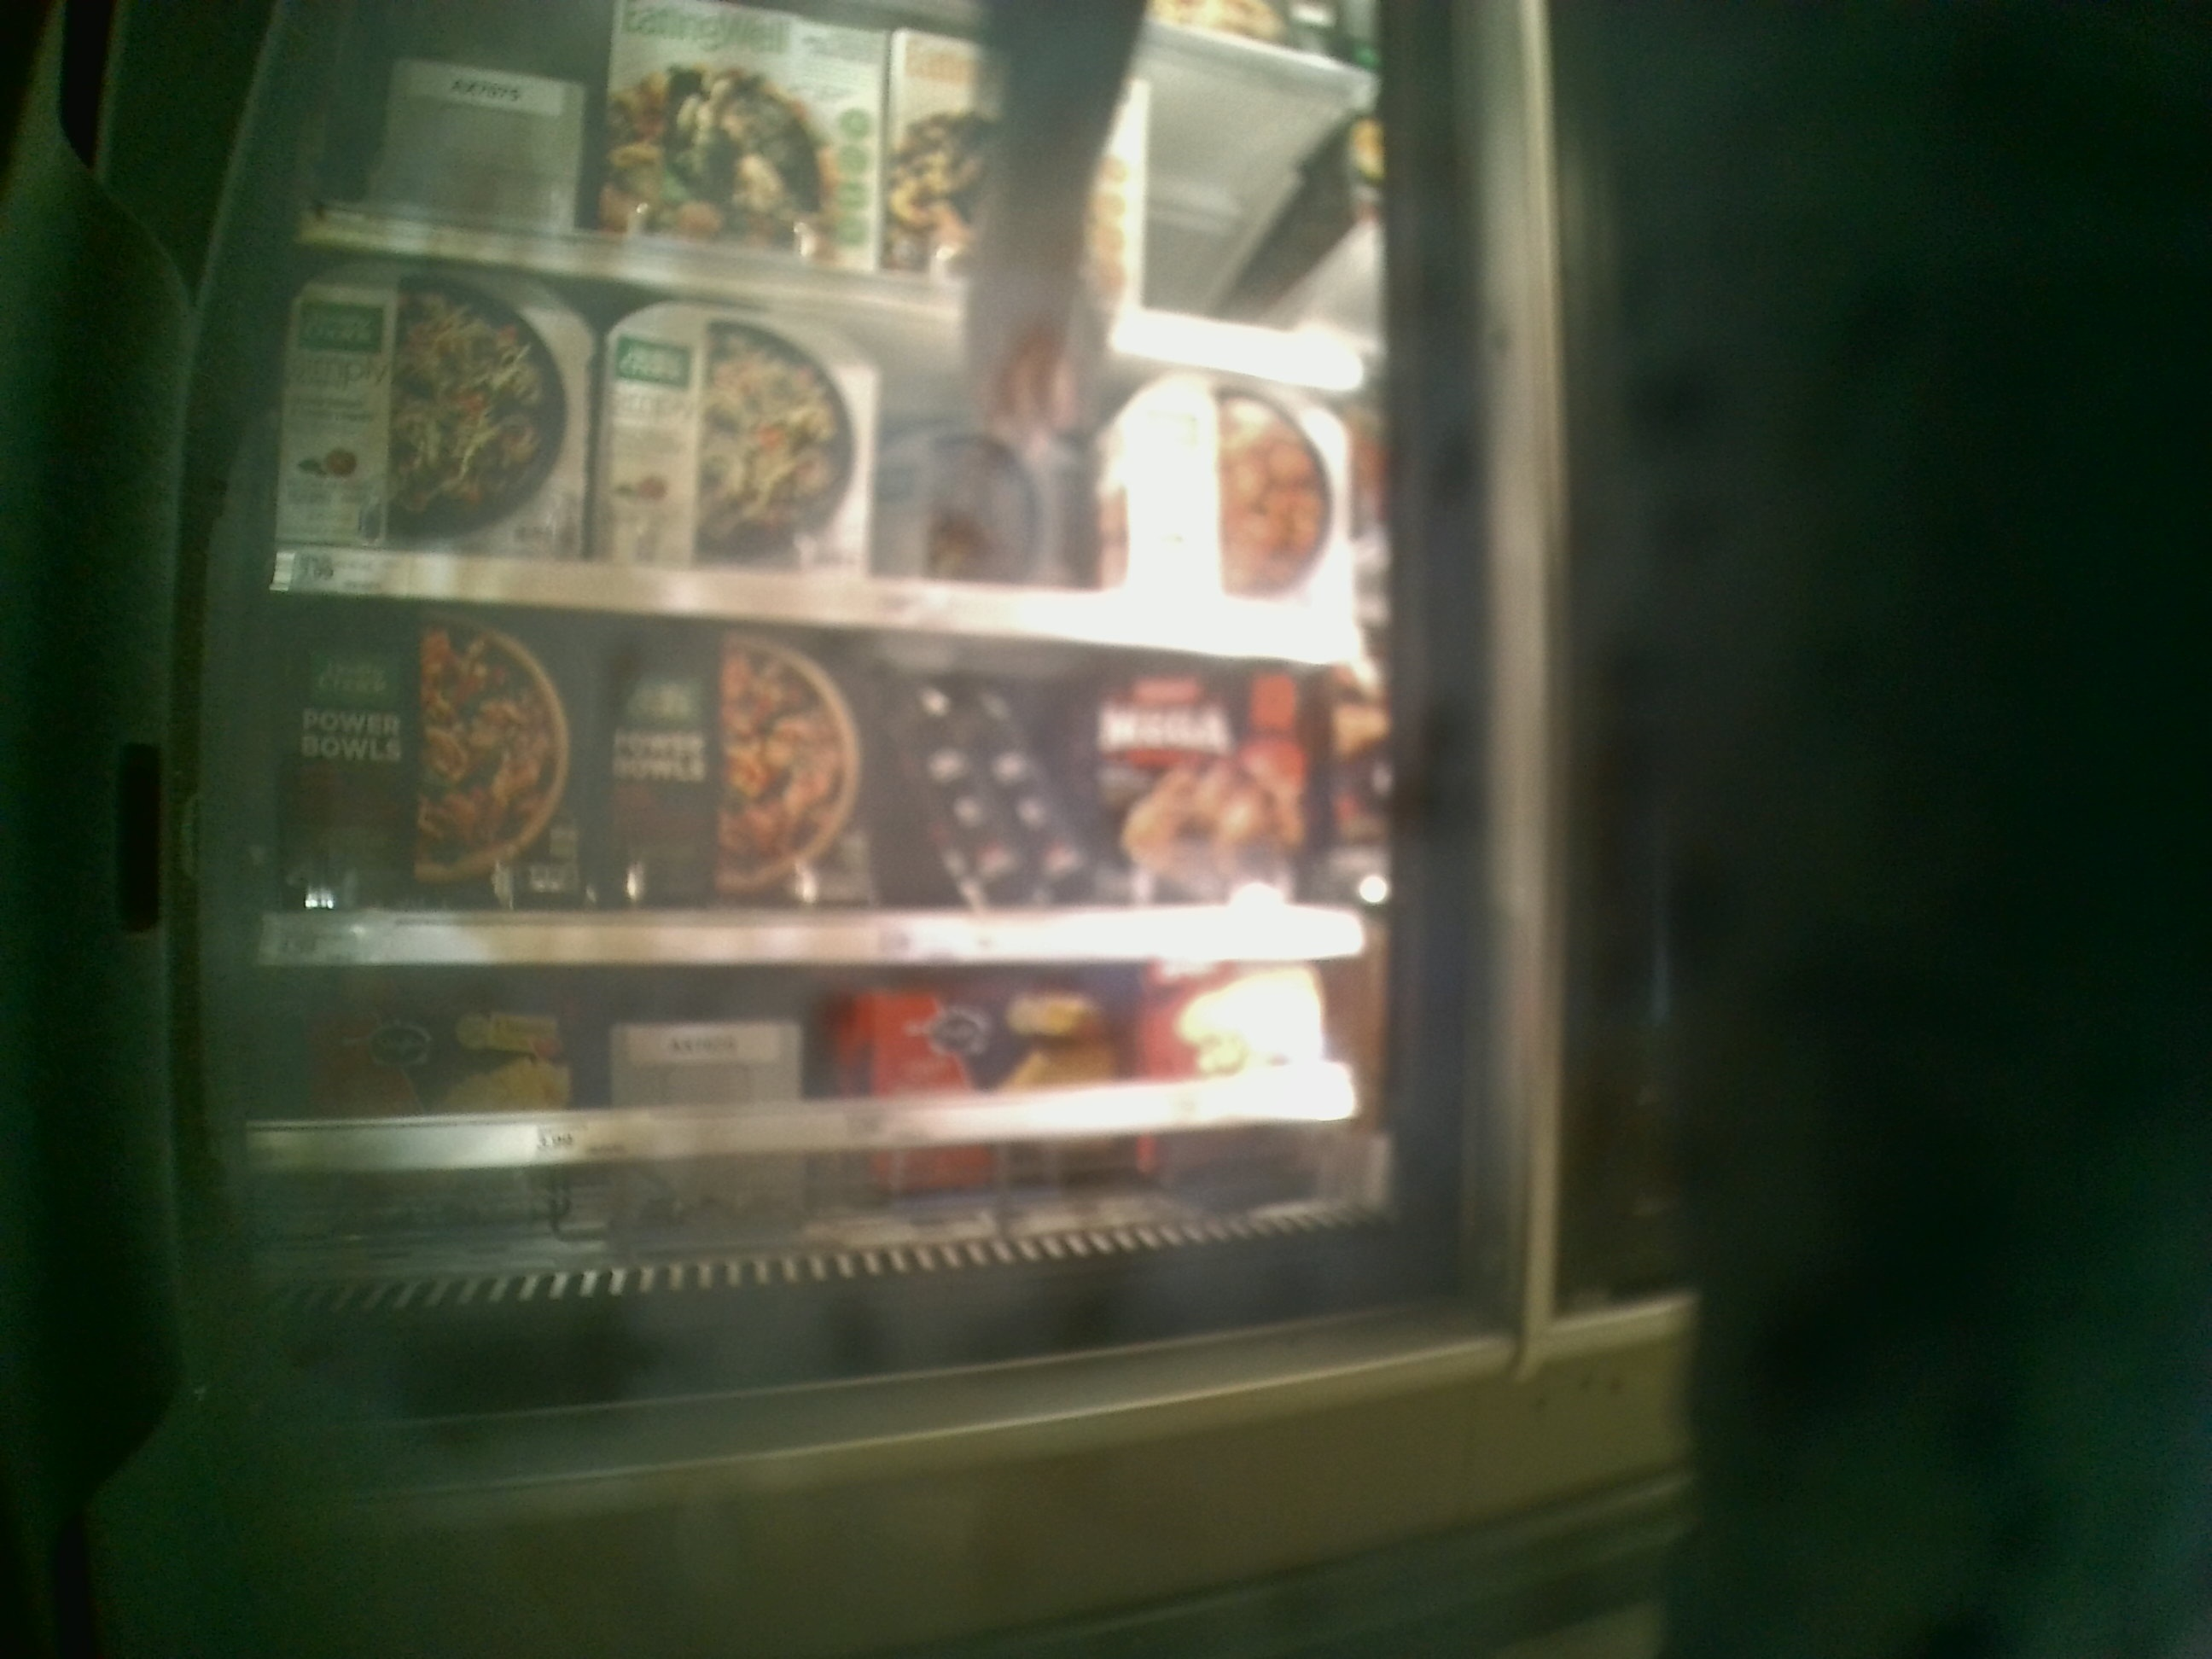shelf: (258, 582, 1397, 967)
